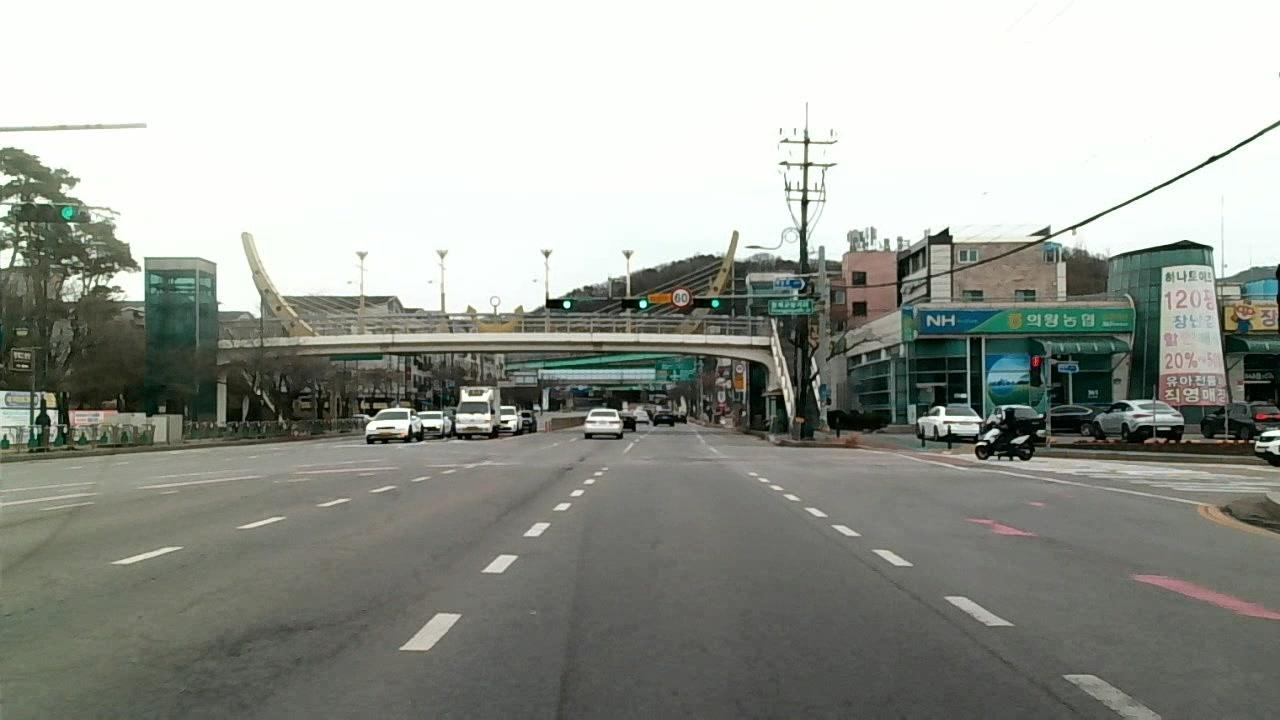vcrack: (912, 597, 1071, 713), (841, 541, 911, 595)
